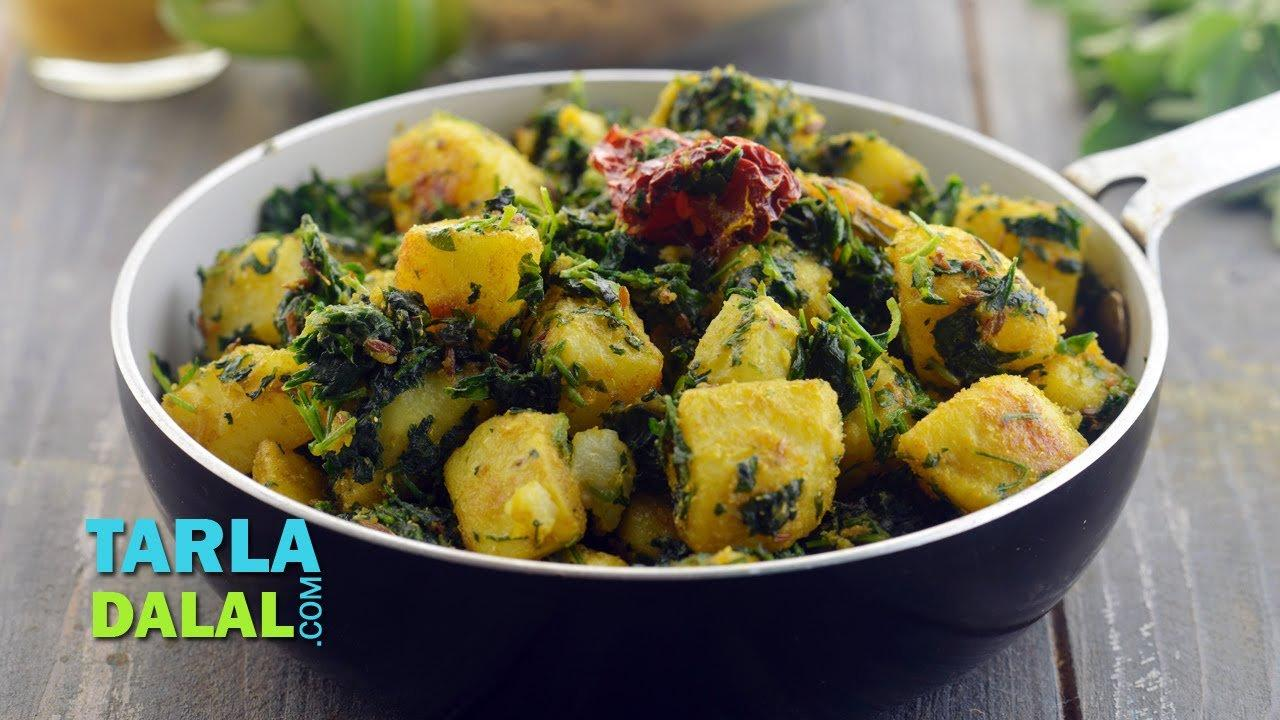Aloo Methi: (104, 80, 1186, 688)
